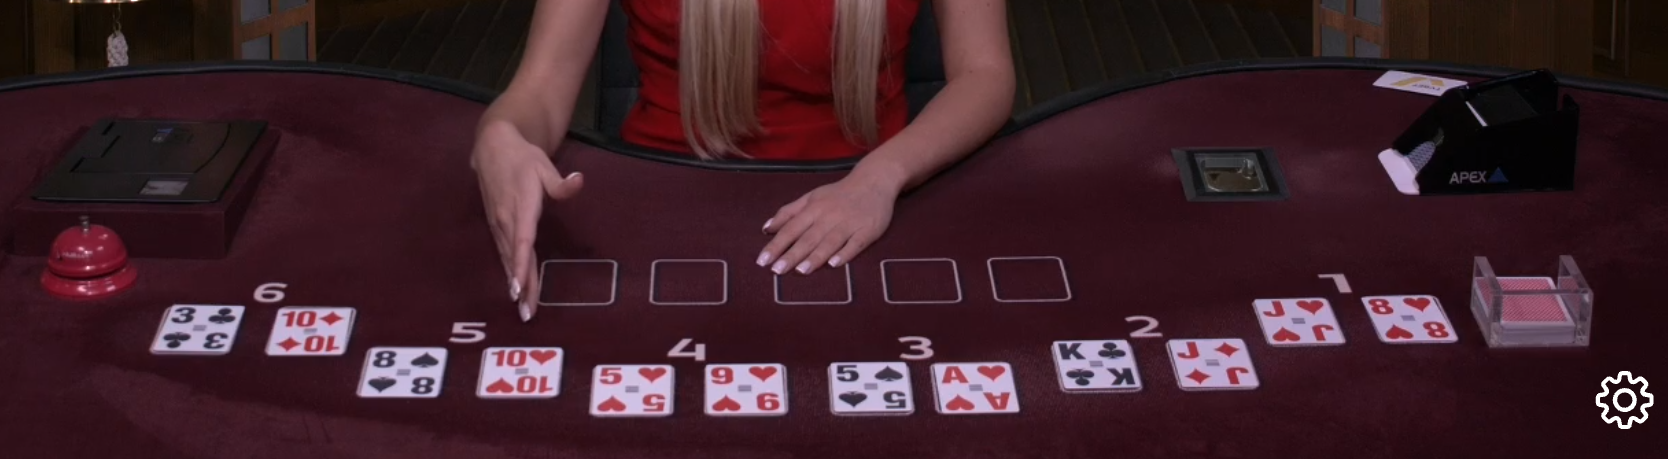10d: (266, 299, 357, 357)
10h: (476, 343, 569, 399)
3c: (156, 301, 241, 354)
5h: (590, 360, 679, 421)
5s: (827, 359, 917, 419)
8h: (1361, 291, 1463, 344)
8s: (363, 347, 447, 404)
9h: (701, 359, 790, 419)
ash: (927, 358, 1029, 417)
jd: (1165, 334, 1260, 395)
jh: (1251, 294, 1352, 349)
kc: (1049, 333, 1146, 394)
